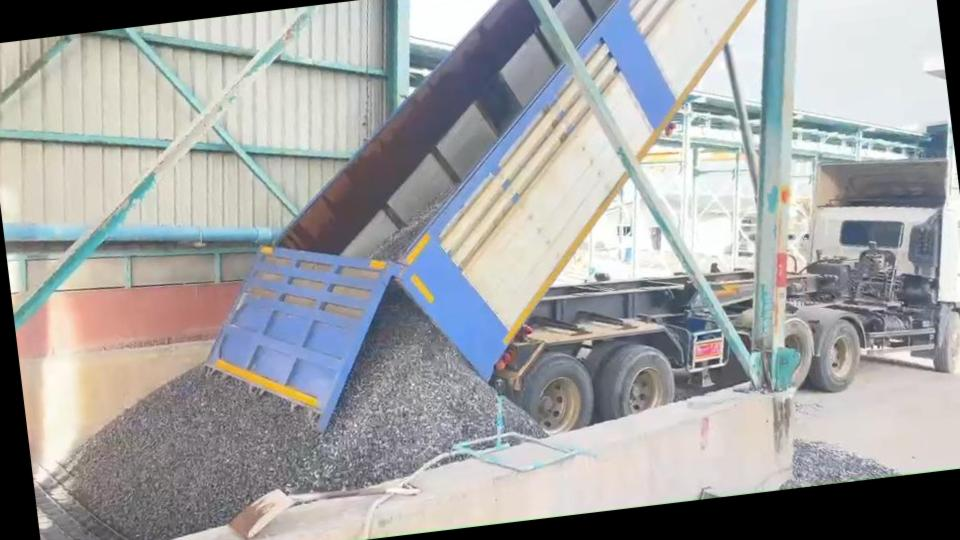gravel: (66, 286, 495, 540), (371, 186, 456, 259), (782, 441, 898, 488), (505, 402, 542, 435)
